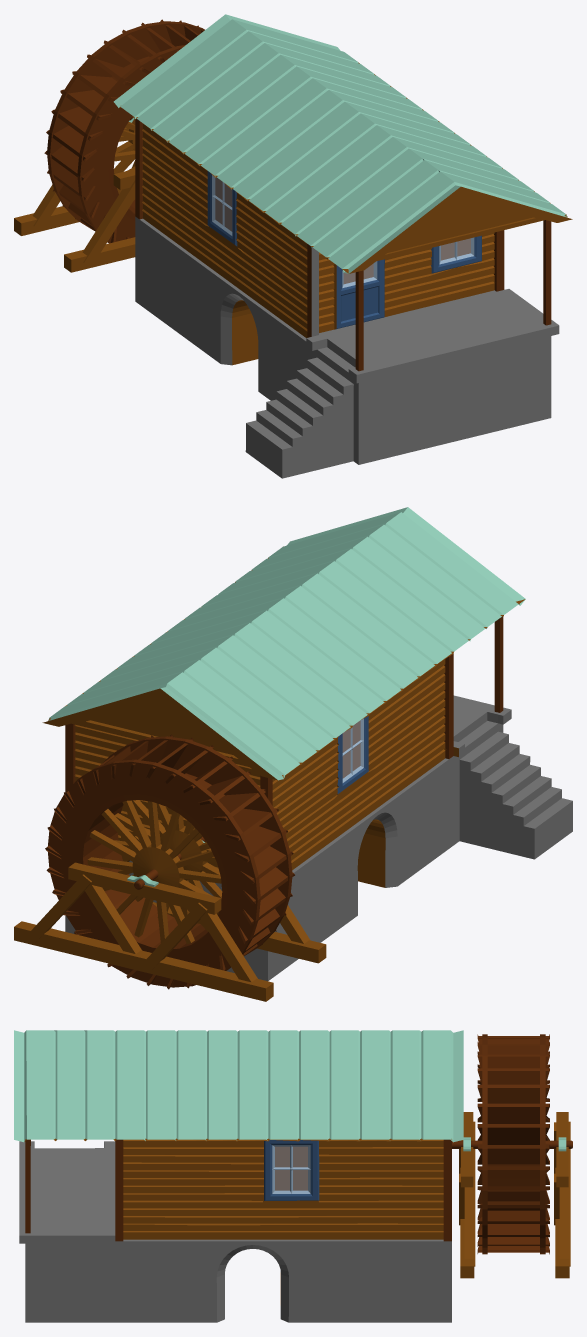
File: mill.fbx
3 views of the same model, one above another, from view 1: azimuth 30°, elevation 25°; view 2: azimuth 150°, elevation 25°; view 3: azimuth 270°, elevation 25° (orthographic). The views are drawn at different scales.
Visible parts, largest first — view 1: mill, wheel, wheel stand.001, wheel stand; view 2: mill, wheel, wheel stand, wheel stand.001; view 3: mill, wheel, wheel stand, wheel stand.001.
Part boxes in pixels (left/top/right/bottom): mill: left=113, top=14, right=572, bottom=478; wheel: left=44, top=19, right=204, bottom=243; wheel stand.001: left=64, top=169, right=135, bottom=272; wheel stand: left=14, top=117, right=134, bottom=235; mill: left=42, top=507, right=572, bottom=981; wheel: left=45, top=734, right=294, bottom=989; wheel stand: left=14, top=862, right=273, bottom=1001; wheel stand.001: left=121, top=828, right=326, bottom=963; mill: left=14, top=1030, right=463, bottom=1322; wheel: left=452, top=1034, right=572, bottom=1254; wheel stand: left=554, top=1112, right=570, bottom=1278; wheel stand.001: left=459, top=1112, right=475, bottom=1278.
Bounding box in the file's own units: 1098 × 972 × 1990.
